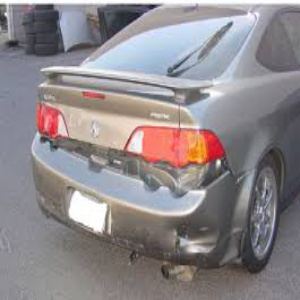bumper: (156, 210, 233, 260)
